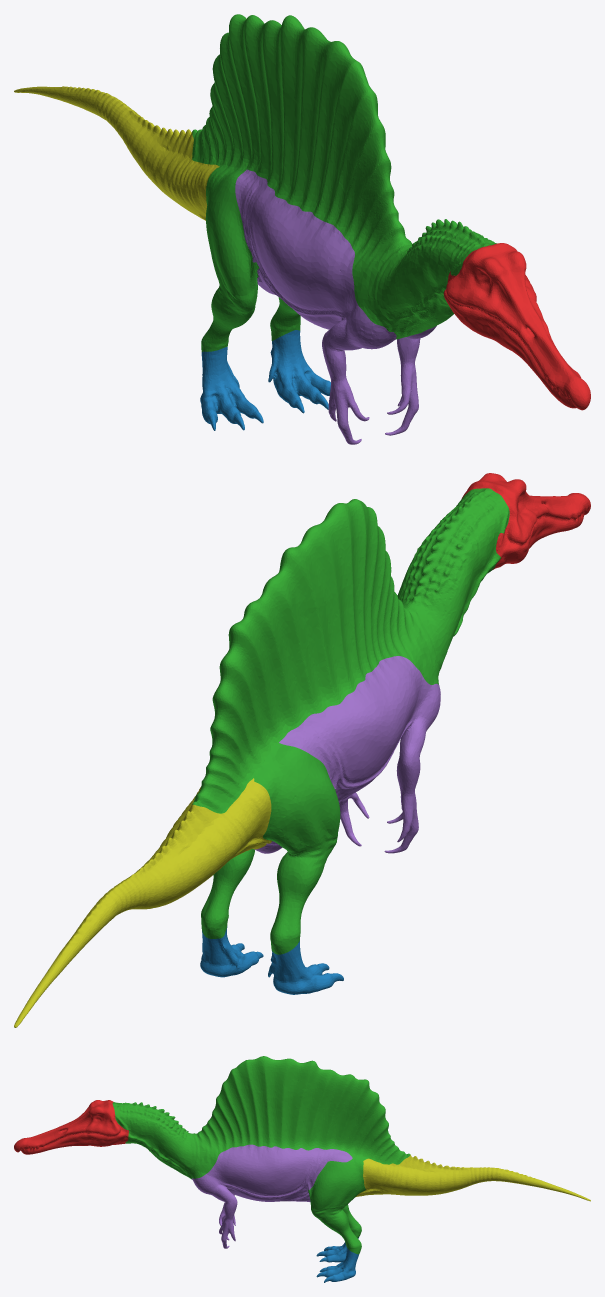
File: SubdividedModelSpinousarus.glb
3 views of the same model, one above another, from view 1: azimuth 30°, elevation 25°; view 2: azimuth 150°, elevation 25°; view 3: azimuth 270°, elevation 25° (orthographic). The views are drawn at different scales.
Parts seen in each view (by area): view 1: model_part7, model_part6, model_part1, model_part5, model_part4, model_part2, model_part0, model_part3; view 2: model_part7, model_part6, model_part5, model_part4, model_part1, model_part3, model_part0, model_part2; view 3: model_part7, model_part6, model_part5, model_part3, model_part1, model_part2, model_part0.
Part boxes in pixels (x1,y1,x2,y2): model_part7: (192,14,496,339); model_part6: (235,169,436,444); model_part1: (443,243,590,410); model_part5: (14,86,219,220); model_part4: (201,164,259,351); model_part2: (268,330,330,413); model_part0: (200,347,263,430); model_part3: (270,297,300,340); model_part7: (192,488,509,813); model_part6: (254,656,440,853); model_part5: (14,778,271,1027); model_part4: (253,743,340,954); model_part1: (461,473,590,569); model_part3: (201,849,254,938); model_part0: (268,940,343,994); model_part2: (200,926,263,977); model_part7: (112,1056,410,1179); model_part6: (192,1144,352,1248); model_part5: (355,1154,590,1201); model_part3: (308,1158,365,1254); model_part1: (14,1100,128,1154); model_part2: (316,1246,358,1282); model_part0: (316,1237,358,1262).
Size of the model in its own units: 0.0158 by 0.0485 by 0.12.
